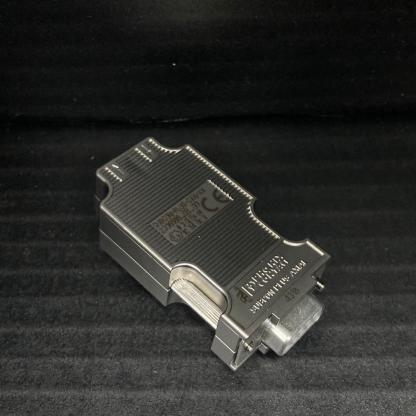SP0000010: (78, 119, 345, 405)
